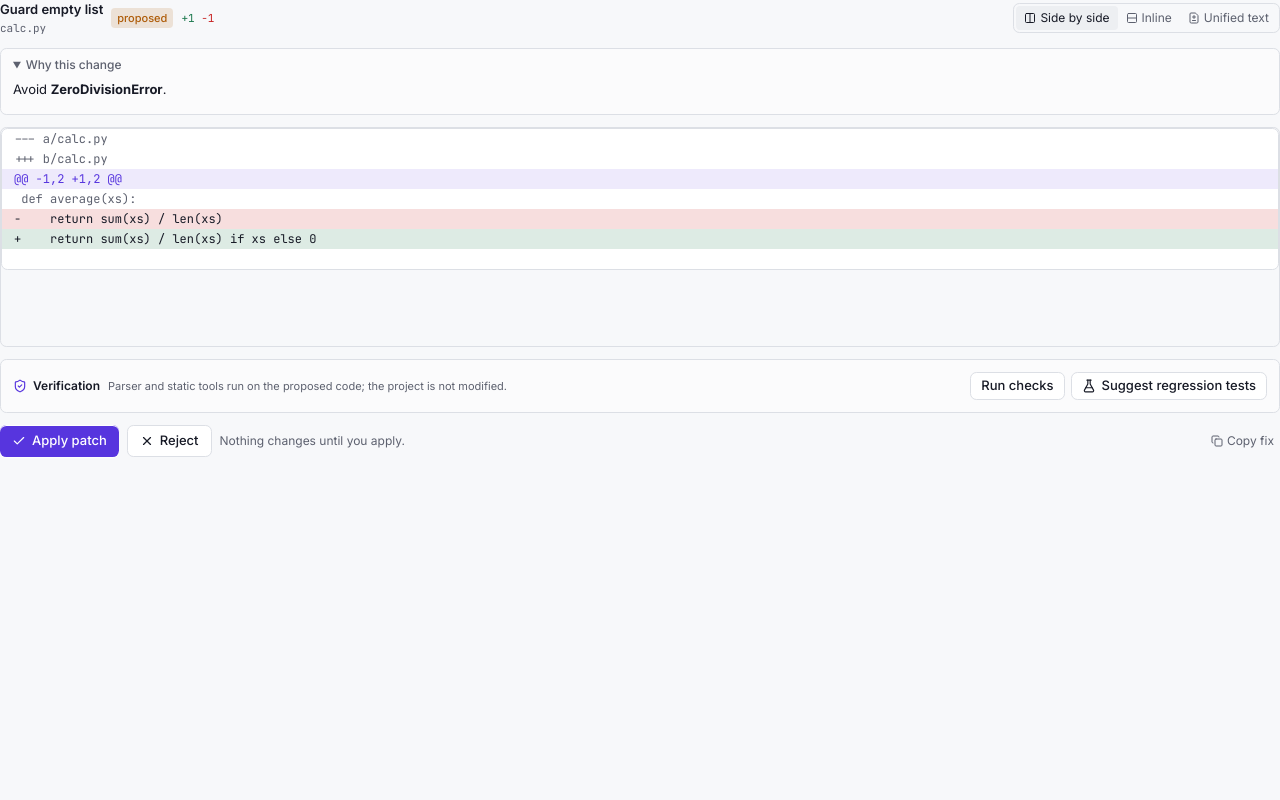
it: PatchReview › applies only after confirmation and reflects the backend's status
Click the button "Apply patch".
click(59, 441)  # box x1=0 y1=425 x2=119 y2=457
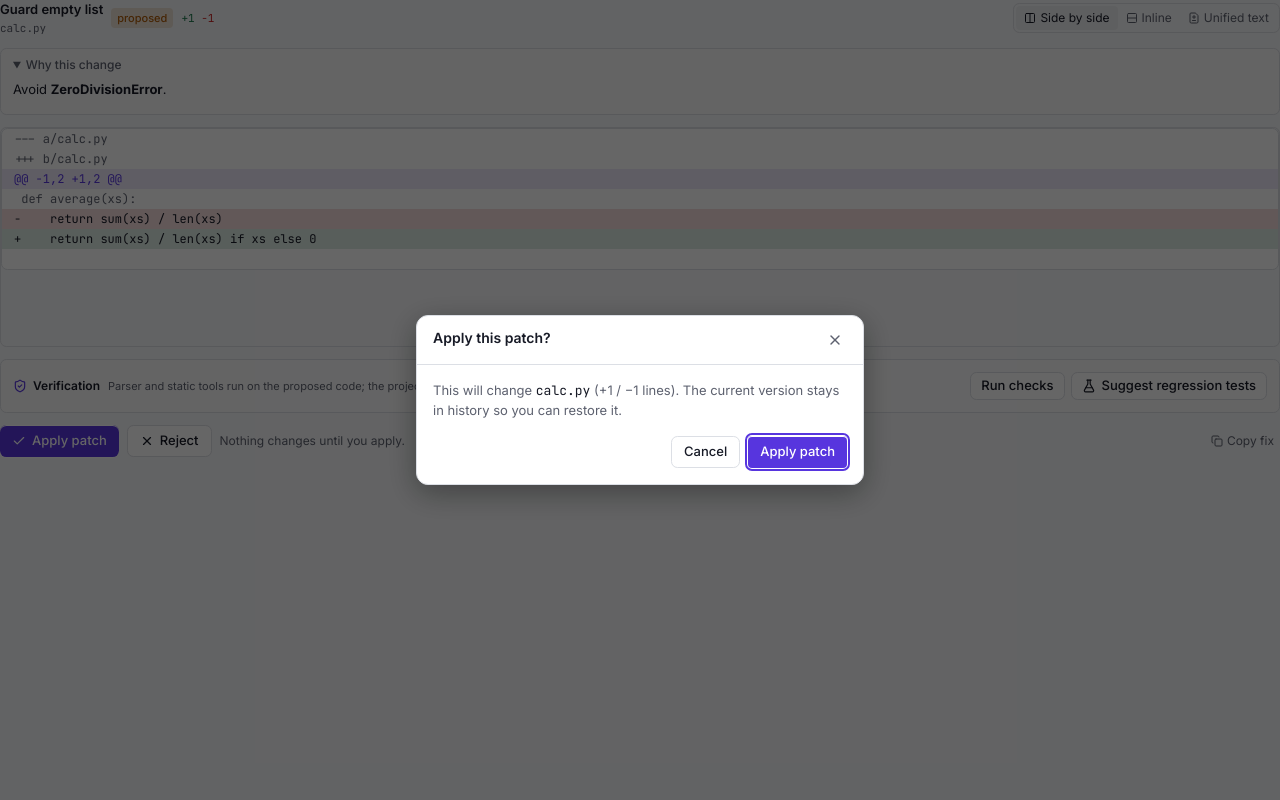
Click the button "Apply patch".
click(798, 452)  # box x1=748 y1=436 x2=847 y2=468
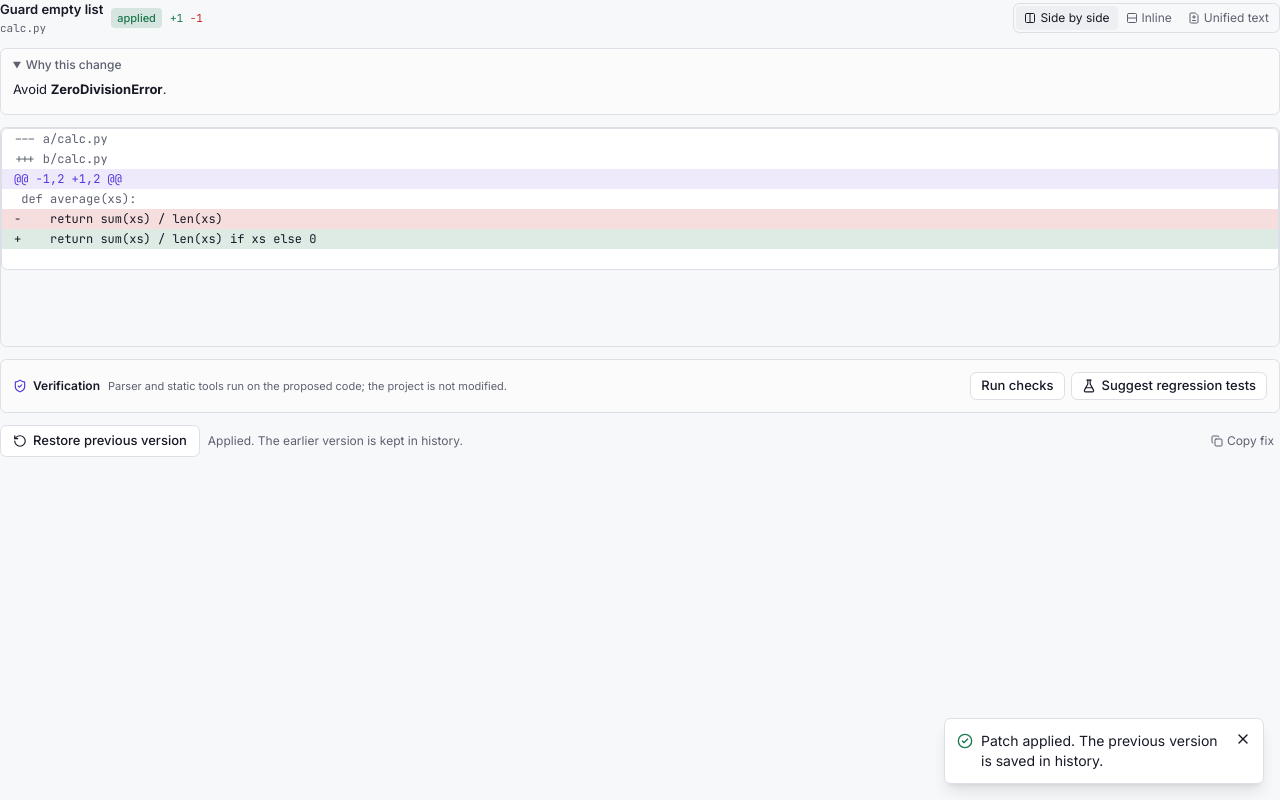
expect the text "applied" is shown: met, box x1=111 y1=8 x2=162 y2=28
expect the button "Restore previous version" is shown: met, box x1=0 y1=425 x2=200 y2=457
